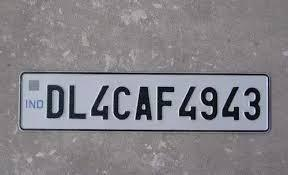Liscence Plate: (27, 72, 268, 128)
